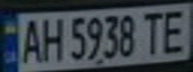3: (103, 11, 121, 61)
5: (63, 14, 87, 61)
8: (118, 11, 142, 58)
9: (84, 12, 103, 61)
A: (15, 15, 45, 64)
E: (157, 6, 193, 55)
H: (36, 14, 66, 63)
T: (139, 8, 166, 56)
